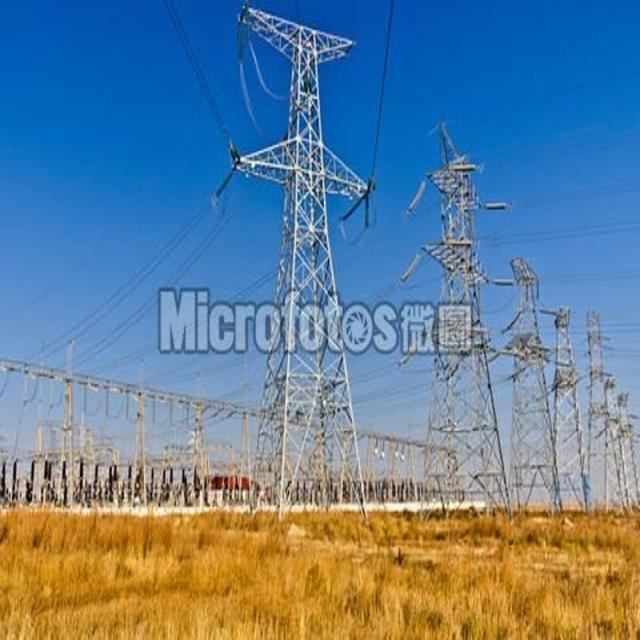non-critical vegetation: (214, 5, 386, 511), (414, 130, 511, 512), (502, 253, 568, 514)
